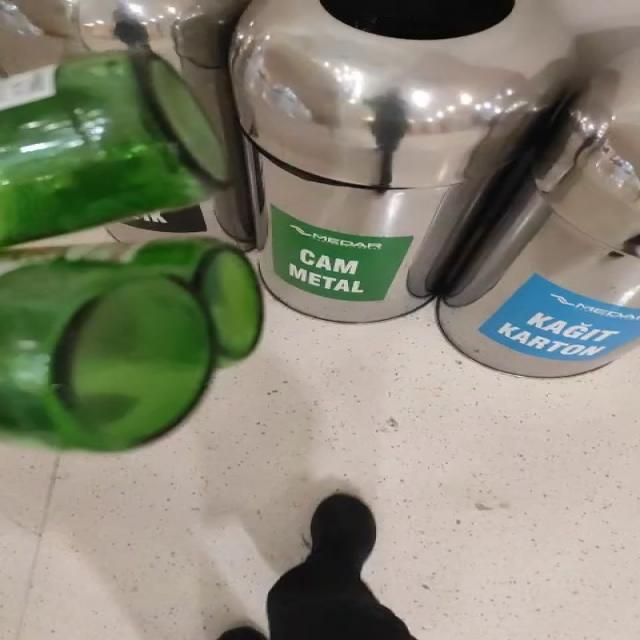bin: (77, 0, 575, 322)
glass: (3, 239, 263, 451), (1, 45, 225, 245)
